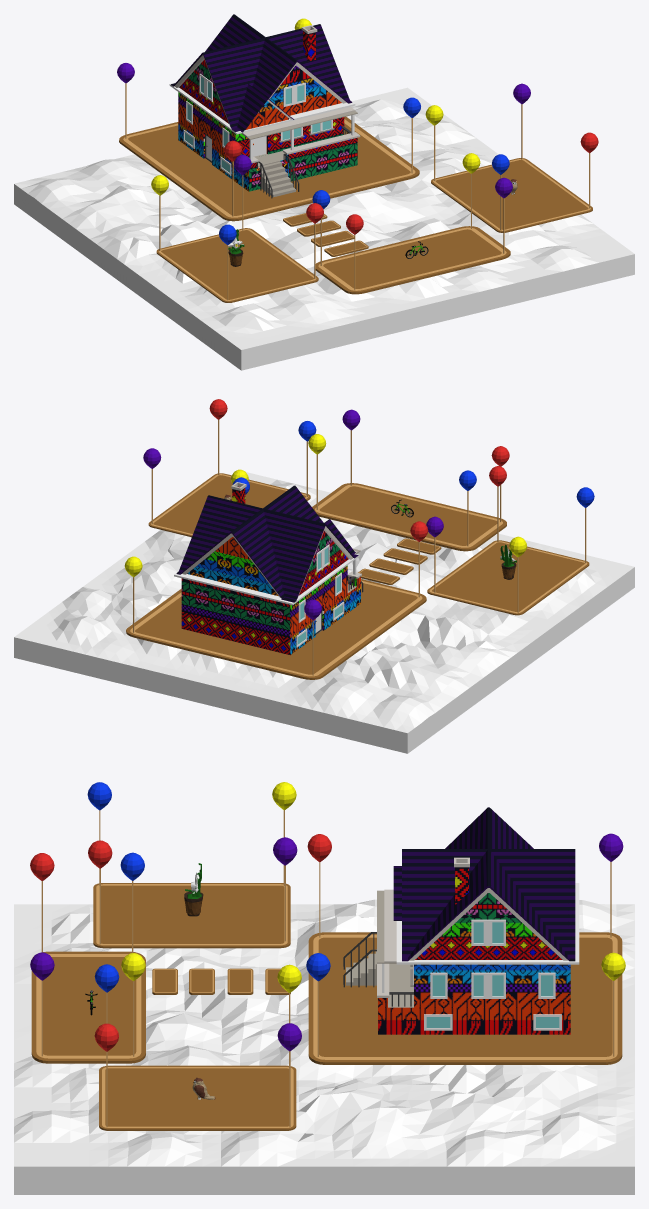
3 views of the same model, one above another, from view 1: azimuth 30°, elevation 25°; view 2: azimuth 150°, elevation 25°; view 3: azimuth 270°, elevation 25° (orthographic). The views are drawn at different scales.
Parts seen in each view (by area): view 1: Cube.013, Cube.966; view 2: Cube.013, Cube.966; view 3: Cube.013, Cube.966, OBJRANDOM_MONJA BLANCA.
Part boxes in pixels (left/top/right/bottom): Cube.013: left=14, top=18, right=634, bottom=370; Cube.966: left=169, top=14, right=360, bottom=198; Cube.013: left=14, top=399, right=634, bottom=753; Cube.966: left=174, top=482, right=363, bottom=655; Cube.013: left=14, top=782, right=634, bottom=1194; Cube.966: left=343, top=807, right=579, bottom=1034; OBJRANDOM_MONJA BLANCA: left=184, top=863, right=203, bottom=916.
Size of the model in its own units: 4000 by 1666 by 4000.
Materials: 41 (5 with a texture image).
